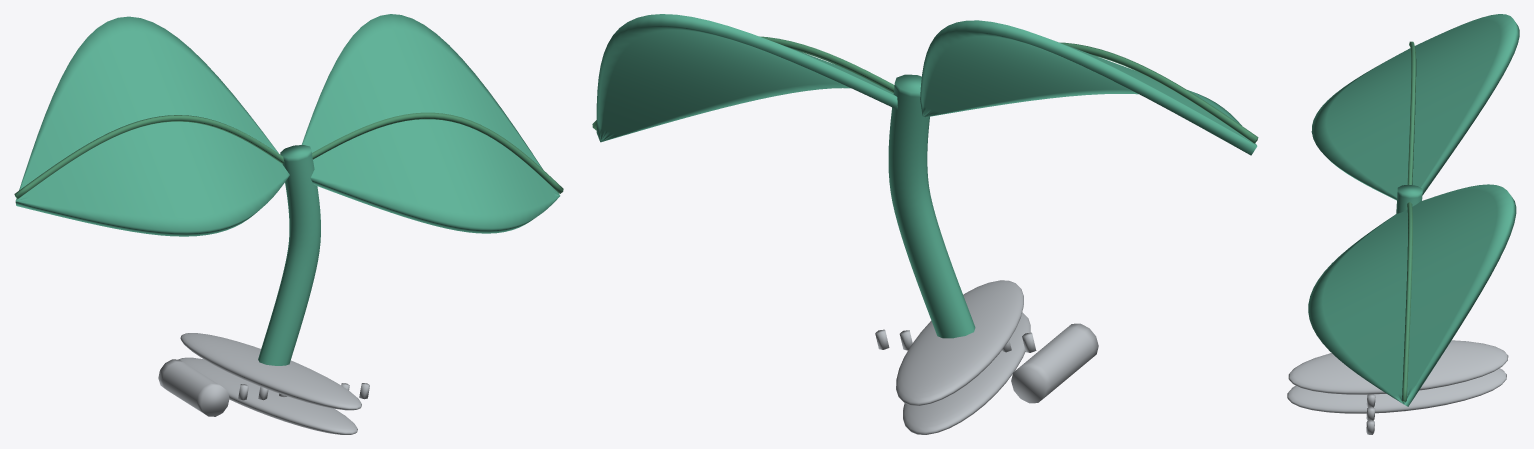
Rendered from Masculine-buzz-pashmina249-sprout.glb.
3 renders of one model, left to right at view 1: azimuth 30°, elevation 25°; view 2: azimuth 150°, elevation 25°; view 3: azimuth 270°, elevation 25°, orthographic. The views are drawn at different scales.
Parts seen in each view (by area): view 1: 226 extra / Accessory / mint226, 226 extra / Sprout / clip silver235, 226 extra / Sprout / leaf vein235; view 2: 226 extra / Accessory / mint226, 226 extra / Sprout / clip silver235, 226 extra / Sprout / leaf vein235; view 3: 226 extra / Accessory / mint226, 226 extra / Sprout / clip silver235, 226 extra / Sprout / leaf vein235.
Part boxes in pixels (x1,y1,x2,y2): 226 extra / Accessory / mint226: [15, 14, 560, 365]; 226 extra / Sprout / clip silver235: [158, 333, 369, 434]; 226 extra / Sprout / leaf vein235: [14, 112, 563, 199]; 226 extra / Accessory / mint226: [596, 14, 1257, 338]; 226 extra / Sprout / clip silver235: [875, 280, 1098, 434]; 226 extra / Sprout / leaf vein235: [592, 36, 1258, 143]; 226 extra / Accessory / mint226: [1308, 14, 1519, 406]; 226 extra / Sprout / clip silver235: [1287, 340, 1508, 434]; 226 extra / Sprout / leaf vein235: [1402, 41, 1416, 401].
Bounding box in the file's own units: 0.2654 × 0.17 × 0.1067.
